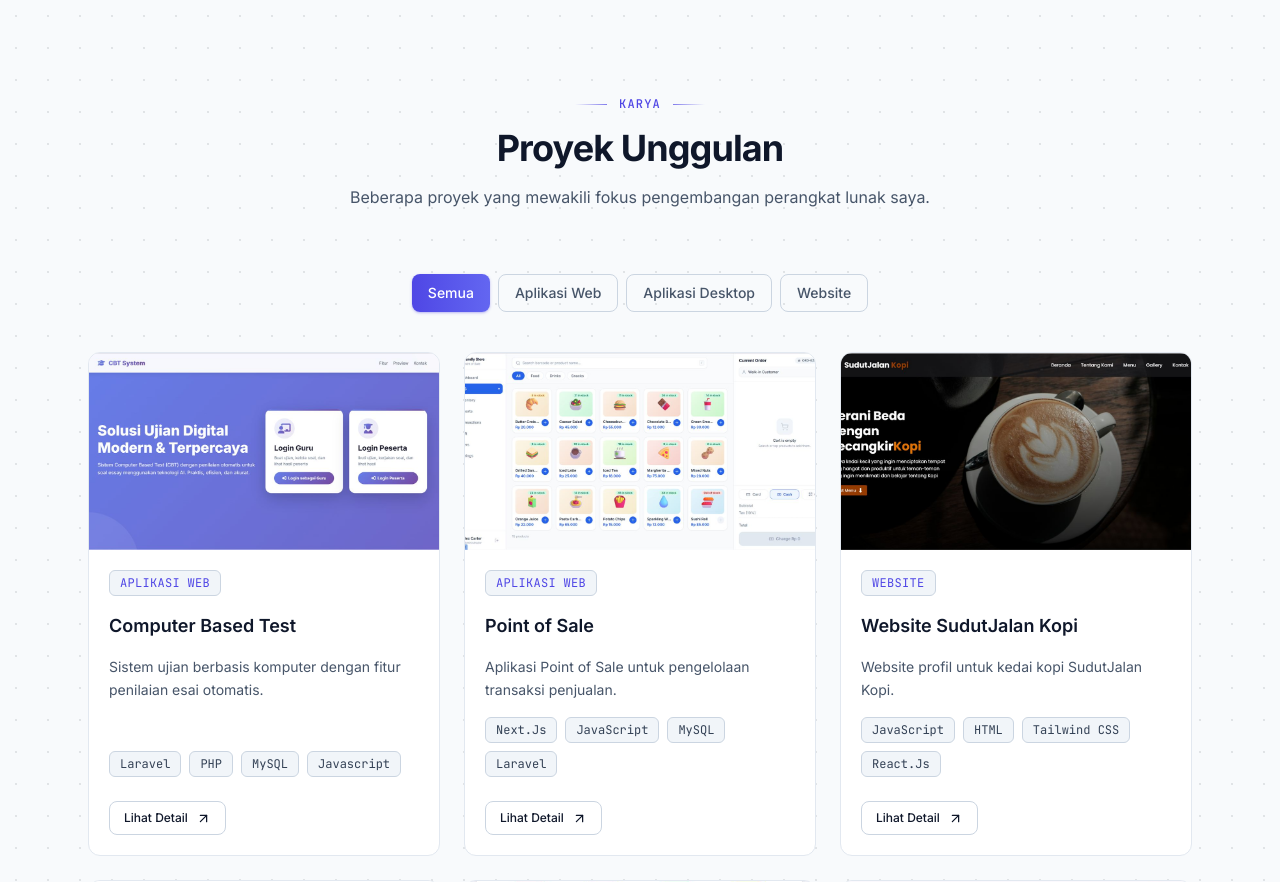
Test case: Section Projects — filter, empty state, modal › menampilkan empty state untuk kategori tanpa proyek (Aplikasi Desktop)
The width and height of the screenshot is (1280, 882).
Click the button "Aplikasi Desktop" at (699, 293), box [626,274,772,312]
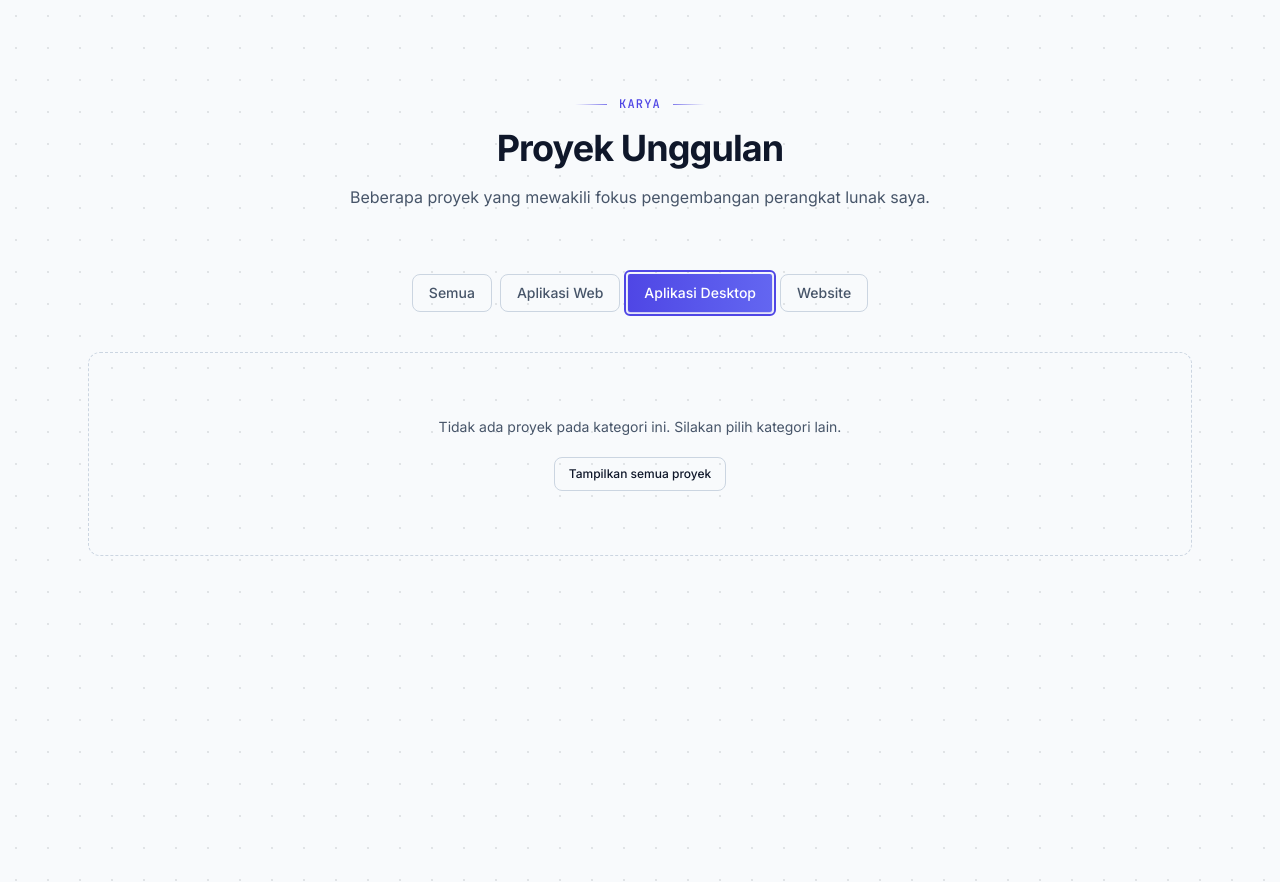
Result: the text "Tidak ada proyek pada kategori ini" is shown at [439,418,841,435]
Result: the heading "Computer Based Test" is gone
